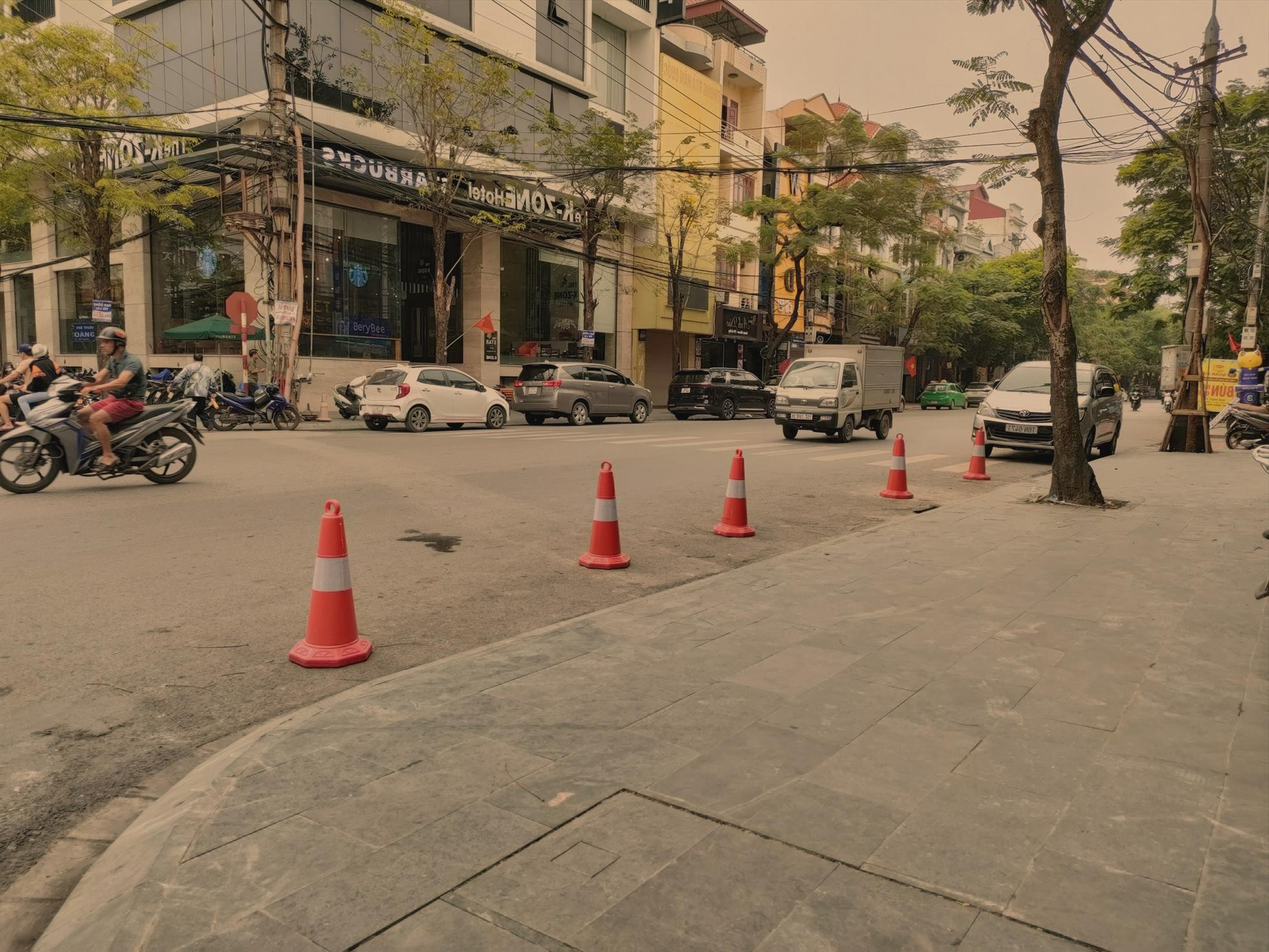ROAD_OBSTACLE: (279, 480, 383, 680), (570, 450, 643, 582), (701, 436, 768, 548), (870, 418, 924, 513), (956, 410, 999, 486)
